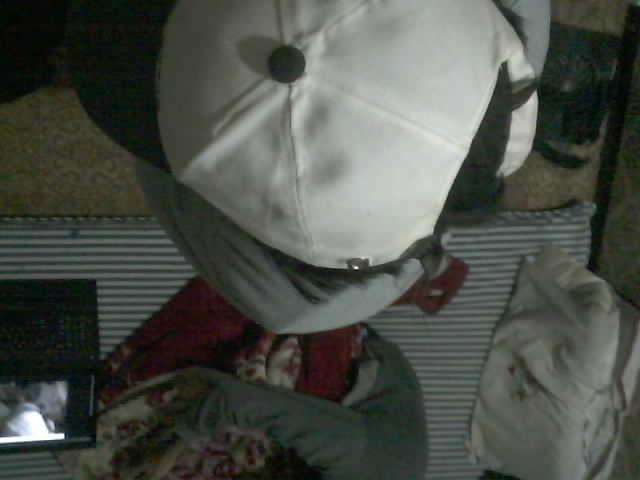cap: (155, 0, 540, 271)
